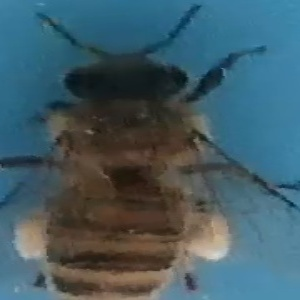bee: (10, 10, 282, 299)
